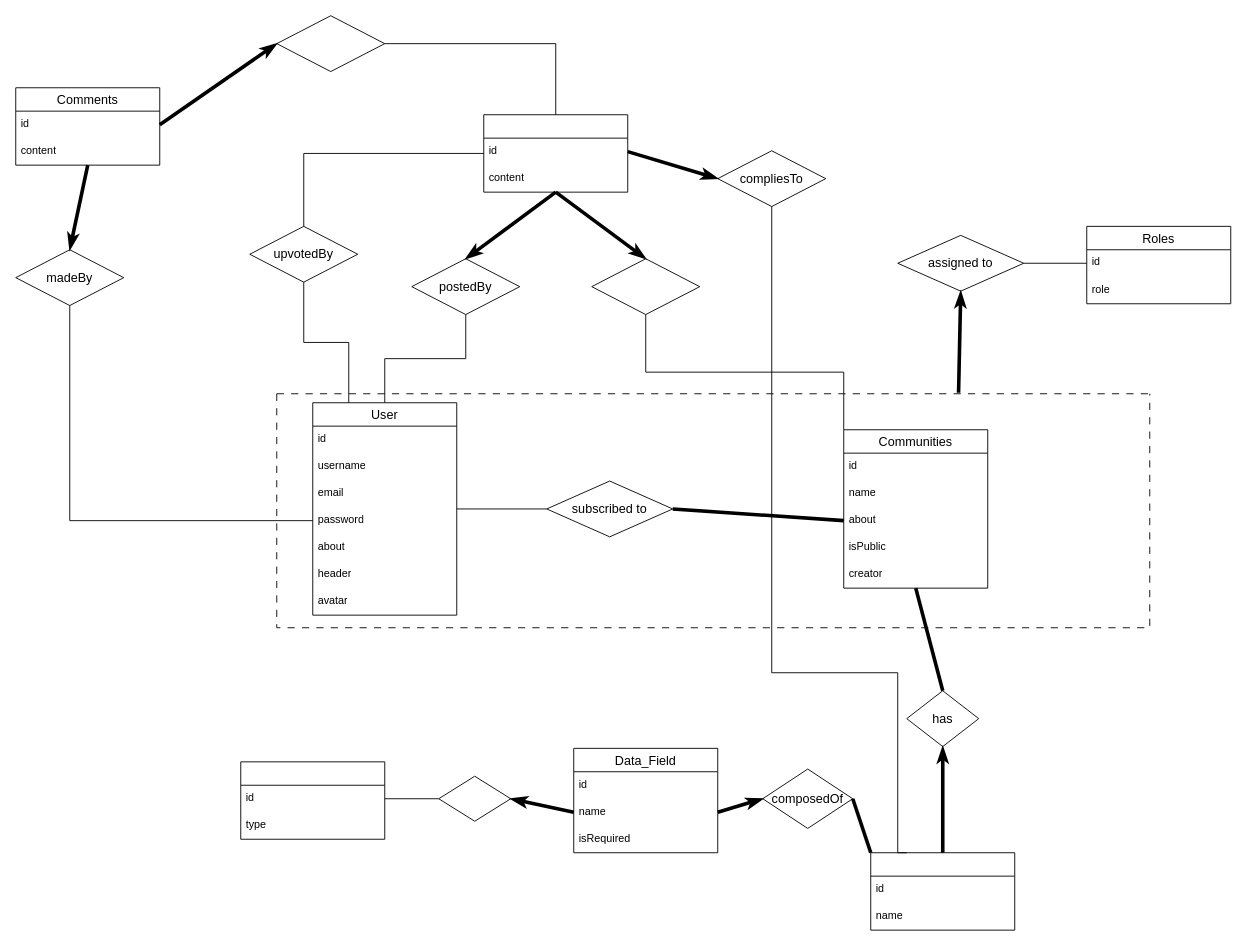
This 1247x949 diagram has some shape labels left out. The box of each missing label's shape, as (x1, y1, x2, y2) in pixels:
belongsTo: (591, 258, 700, 315)
Data_Field_Types: (240, 761, 385, 839)
madeFor: (276, 15, 385, 72)
Posts: (483, 114, 628, 192)
Templates: (870, 852, 1015, 930)
typeOf: (438, 775, 511, 821)
